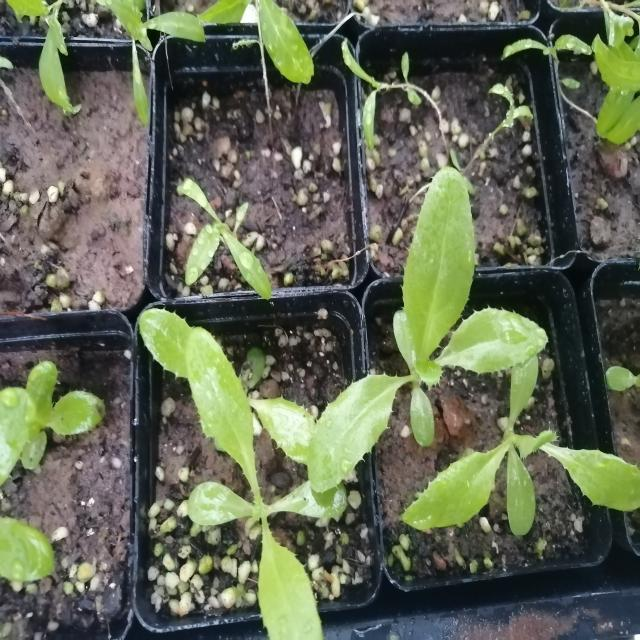field_thistle: (297, 142, 538, 480), (144, 270, 364, 628), (415, 381, 635, 551)
